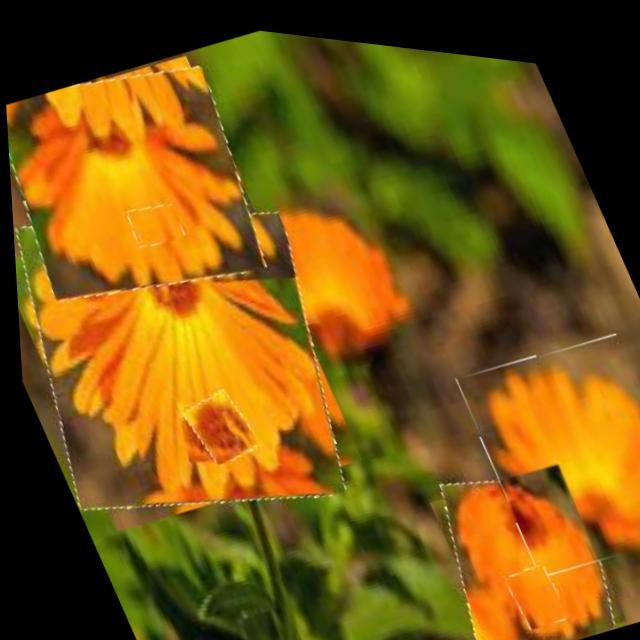Flower: (7, 144, 380, 571), (1, 28, 284, 339), (445, 300, 640, 578), (410, 427, 631, 640), (175, 378, 256, 466), (497, 546, 565, 622), (122, 192, 185, 250)
